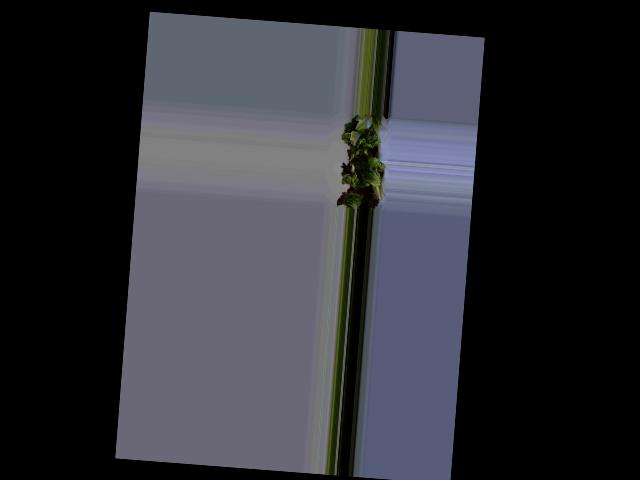lettuce: (340, 118, 382, 207)
